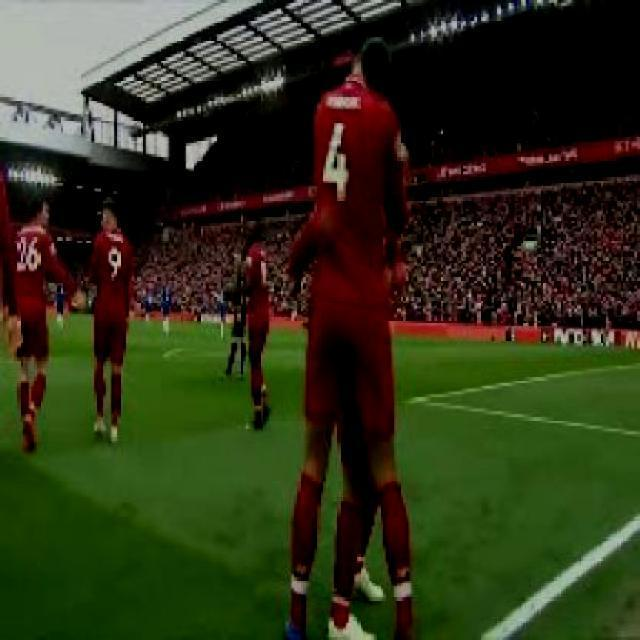non-fight: (280, 32, 417, 638)
